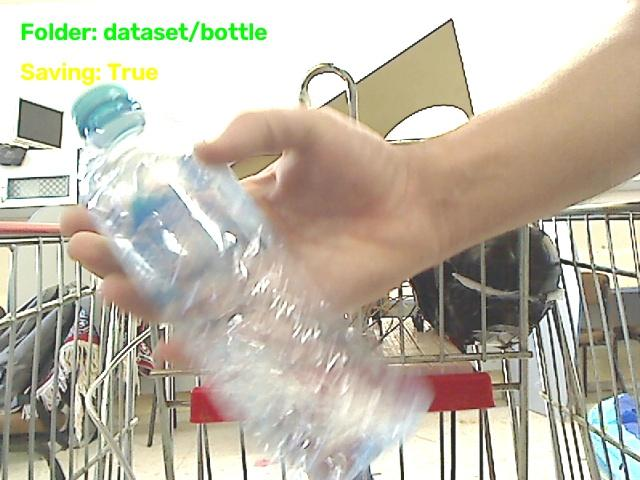Bottle: (72, 85, 429, 479)
